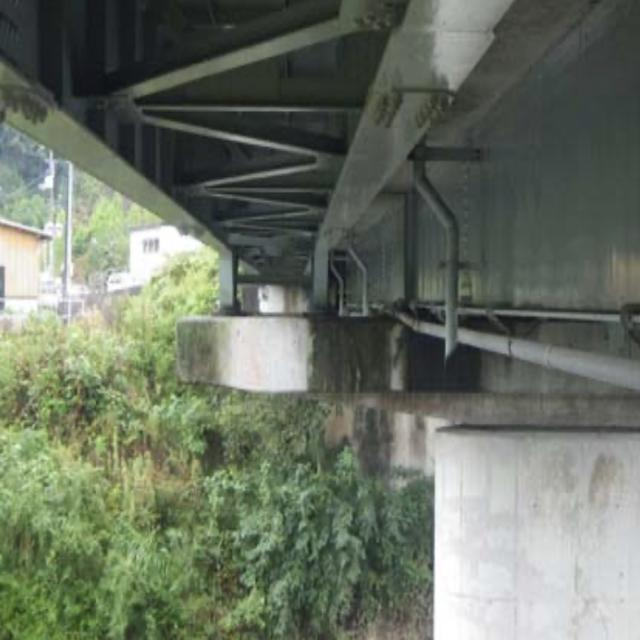leakage: (300, 310, 484, 406)
